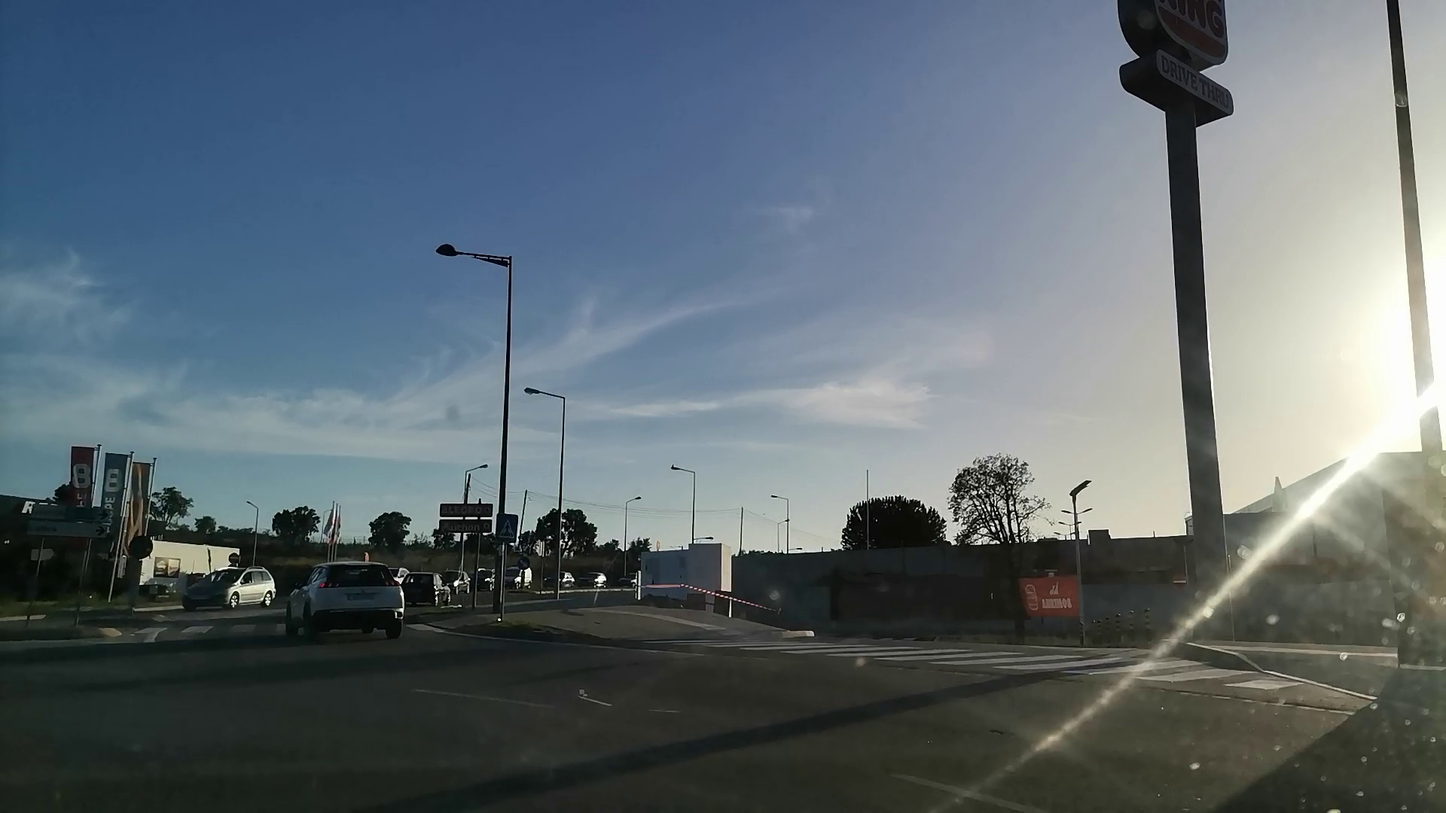Stairs: (661, 635, 1304, 694)
